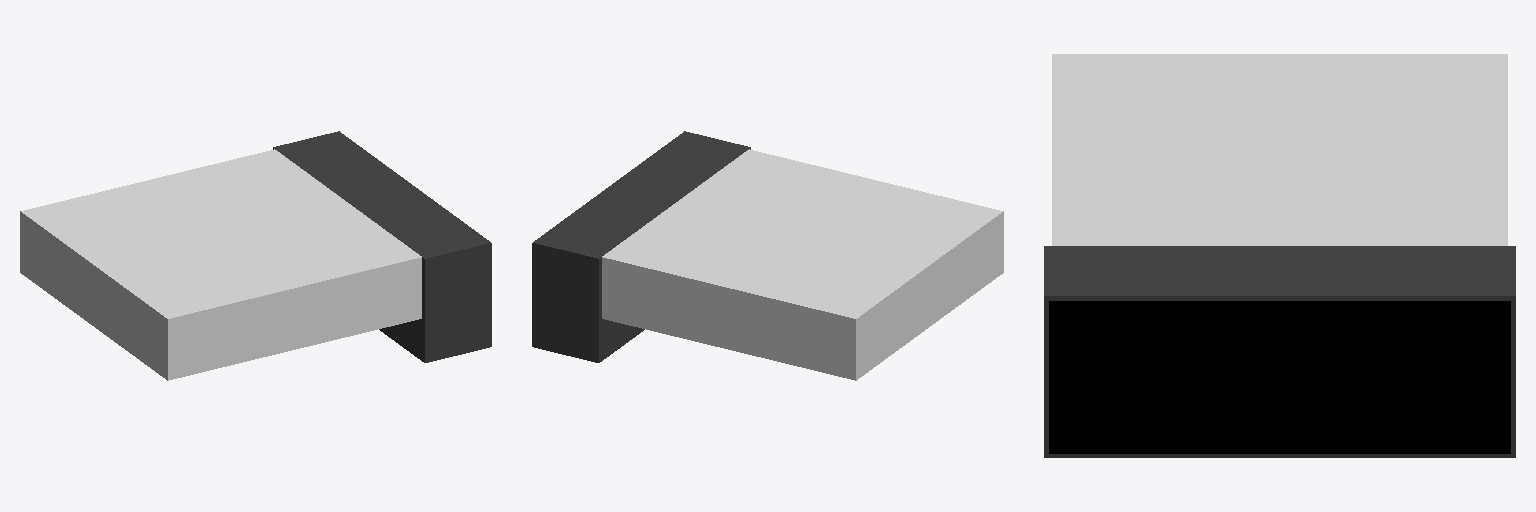
URDF robot description (azure-kinect):
<?xml version="1.0" encoding="utf-8"?>
<!-- =================================================================================== -->
<!-- |    This document was autogenerated by xacro from azure_kinect.urdf.xacro        | -->
<!-- |    EDITING THIS FILE BY HAND IS NOT RECOMMENDED                                 | -->
<!-- =================================================================================== -->
<!-- 
 Copyright (c) Microsoft Corporation. All rights reserved.
 Licensed under the MIT License.
 -->
<robot name="azure-kinect">
  <material name="black">
    <color rgba="0. 0. 0. 1"/>
  </material>
  <material name="dark_grey">
    <color rgba="0.3 0.3 0.3 1.0"/>
  </material>
  <material name="grey">
    <color rgba="0.6 0.6 0.6 1"/>
  </material>
  <material name="white">
    <color rgba="0.9 0.9 0.9 1"/>
  </material>
  <link name="camera_body">
    <visual>
      <origin xyz="0. 0. 0."/>
      <geometry>
        <box size="0.0994 0.0996 0.023"/>
      </geometry>
      <material name="white"/>
    </visual>
  </link>
  <link name="camera_base">
    <visual>
      <origin xyz="-0.013 0. 0."/>
      <geometry>
        <box size="0.026 0.103 0.039"/>
      </geometry>
      <material name="dark_grey"/>
    </visual>
  </link>
  <link name="camera_visor">
    <visual>
      <origin xyz="-0.0128 0. 0."/>
      <geometry>
        <box size="0.026 0.101 0.037"/>
      </geometry>
      <material name="black"/>
    </visual>
  </link>
  <joint name="camera_base_to_body" type="fixed">
    <parent link="camera_base"/>
    <child link="camera_body"/>
    <origin rpy="0. 0. 0." xyz="-0.0757 0. 0.008"/>
  </joint>
  <joint name="camera_base_to_visor" type="fixed">
    <parent link="camera_base"/>
    <child link="camera_visor"/>
    <origin rpy="0. 0. 0." xyz="0. 0. 0."/>
  </joint>
</robot>

--- Render facts (derived) ---
Views: 3 orthographic renders of the robot side by side, from view 1: azimuth 30°, elevation 25°; view 2: azimuth 150°, elevation 25°; view 3: azimuth 270°, elevation 25°.
Robot: azure-kinect — 3 links, 2 joints (2 fixed); root link camera_base; default pose: all joints at 0.
Links seen in each view (by area): view 1: camera_body, camera_base; view 2: camera_body, camera_base; view 3: camera_body, camera_visor, camera_base.
Boxes of the visible links, bbox=[...] form: camera_body: bbox=[20, 149, 421, 380]; camera_base: bbox=[273, 131, 491, 362]; camera_body: bbox=[602, 149, 1003, 380]; camera_base: bbox=[532, 131, 750, 362]; camera_body: bbox=[1052, 54, 1507, 245]; camera_visor: bbox=[1049, 301, 1510, 453]; camera_base: bbox=[1044, 246, 1515, 457].
Size in the robot's own frame: 0.1256 by 0.103 by 0.039 metres.
Geometry: primitives only (box / cylinder / sphere), no mesh files.